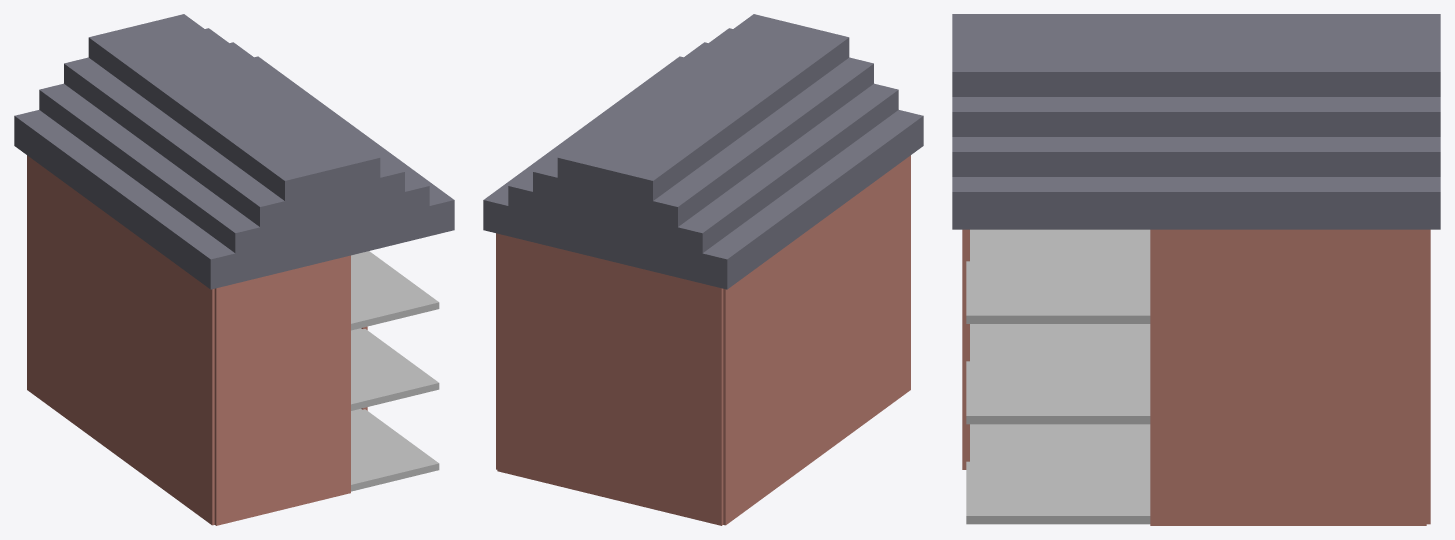
3 views of the same model, side by side, from view 1: azimuth 30°, elevation 25°; view 2: azimuth 150°, elevation 25°; view 3: azimuth 270°, elevation 25° (orthographic). The views are drawn at different scales.
Bounding box in the file's own units: 3.8 × 4.95 × 5.3.
